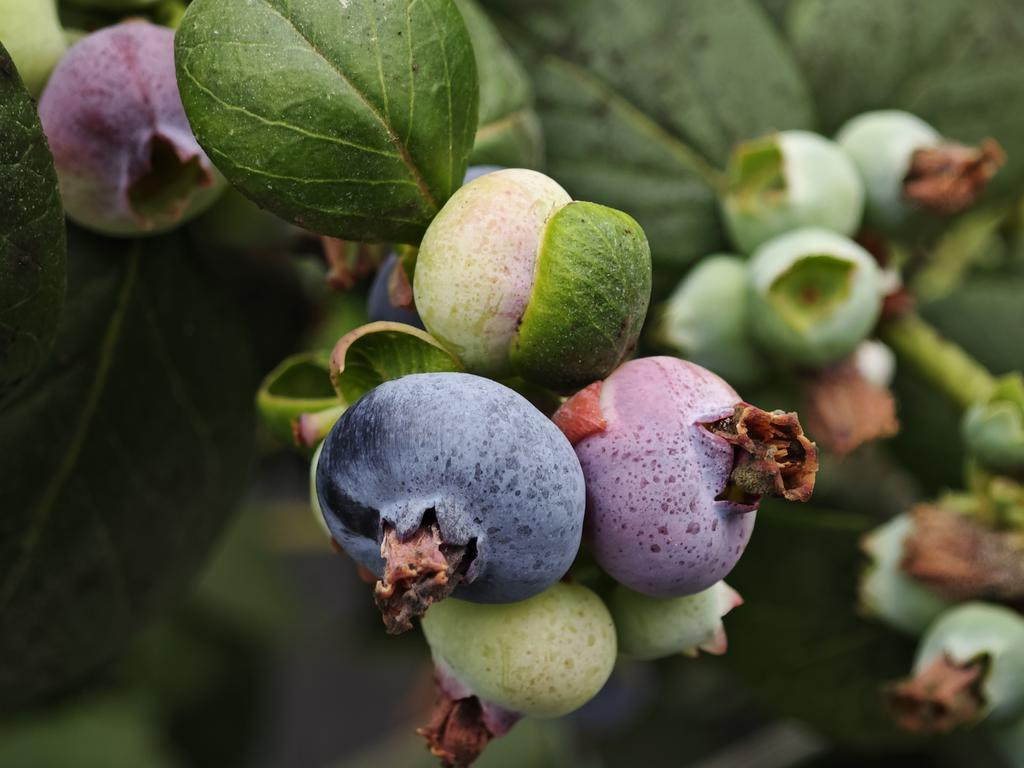RipeBlueBerry: (313, 369, 588, 616)
Semi-RipeBlueBerry: (583, 352, 790, 603), (38, 17, 227, 237)
